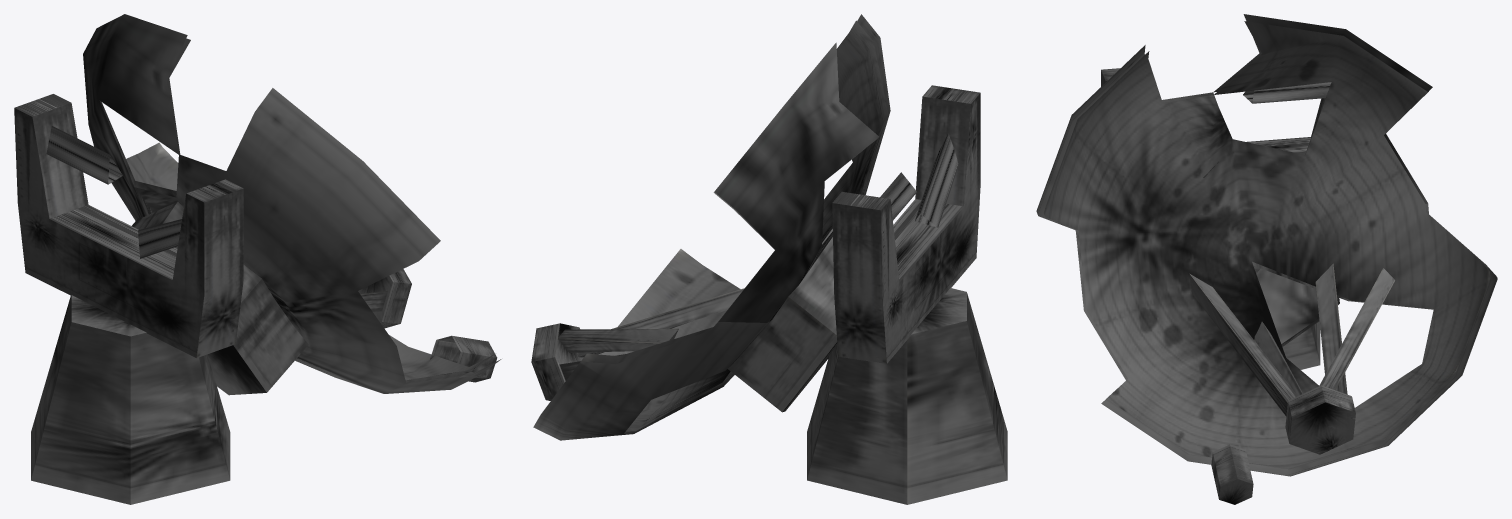
Rendered from CommunicationDish.fbx.
The picture shows the model from 3 angles, left to right: view 1: azimuth 30°, elevation 25°; view 2: azimuth 150°, elevation 25°; view 3: azimuth 270°, elevation 25°; orthographic projection. The views are drawn at different scales.
Visible parts, largest first — view 1: DishDEAD; view 2: DishDEAD; view 3: DishDEAD.
Boxes of the visible parts, x1,y1,x2,y2 form: DishDEAD: (14,14,501,504); DishDEAD: (531,14,1007,504); DishDEAD: (1036,14,1497,504).
Size of the model in its own units: 48.3 by 41.33 by 46.95.
Materials: 1 (1 with a texture image).
